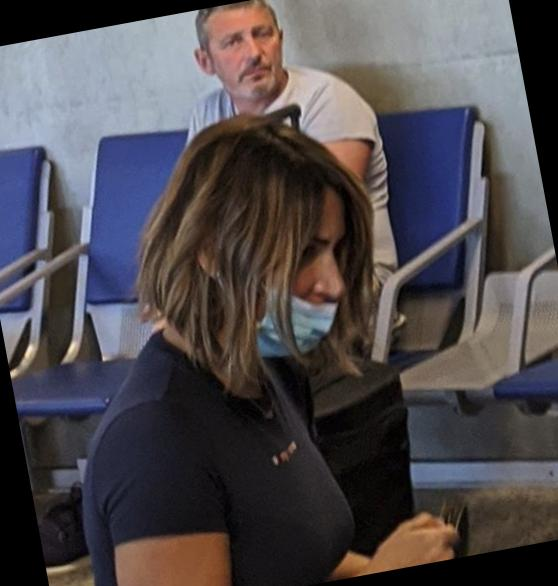mask_weared_incorrect: (250, 230, 370, 365)
without_mask: (202, 11, 293, 99)
